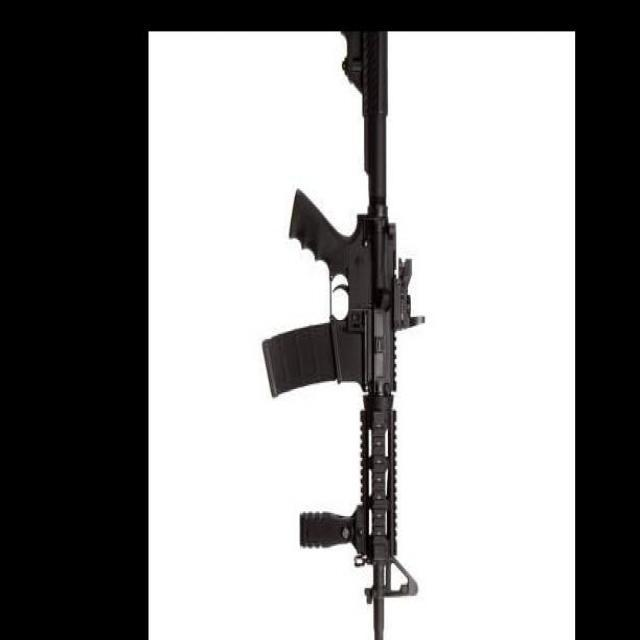weapon: (262, 31, 426, 640)
